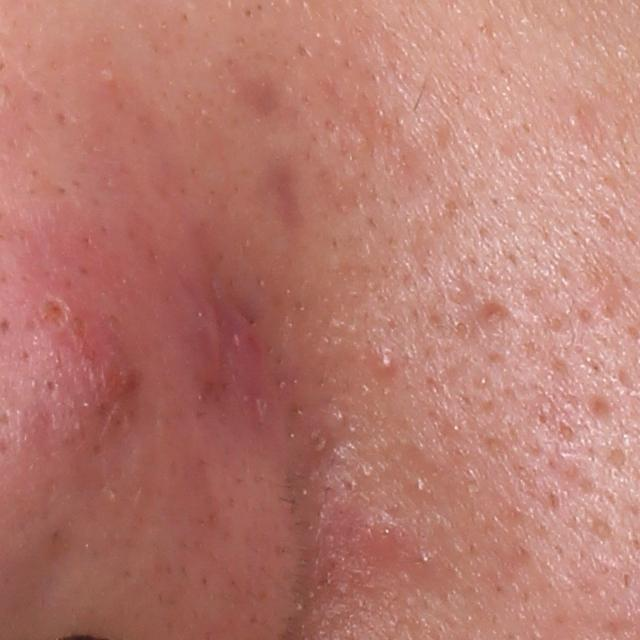atrophic_scar: (477, 300, 524, 347), (584, 395, 621, 427)
comedo: (566, 112, 583, 129)
papule: (193, 283, 310, 439), (29, 291, 135, 435), (371, 349, 397, 382)
